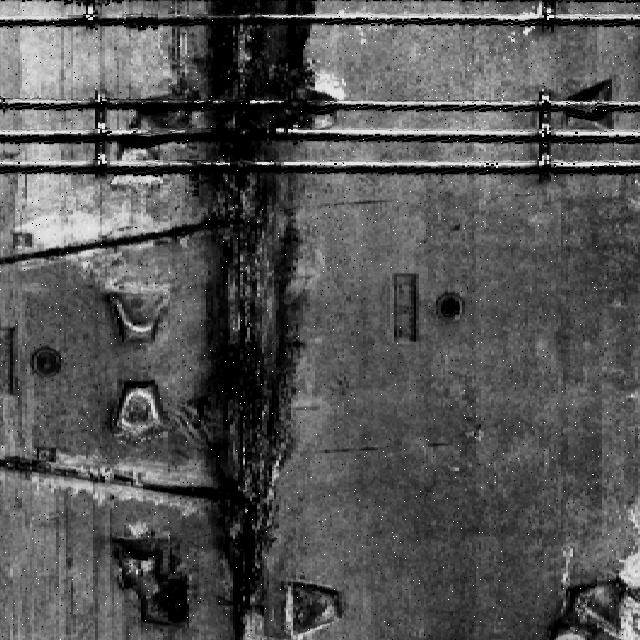leakage: (158, 1, 339, 639)
